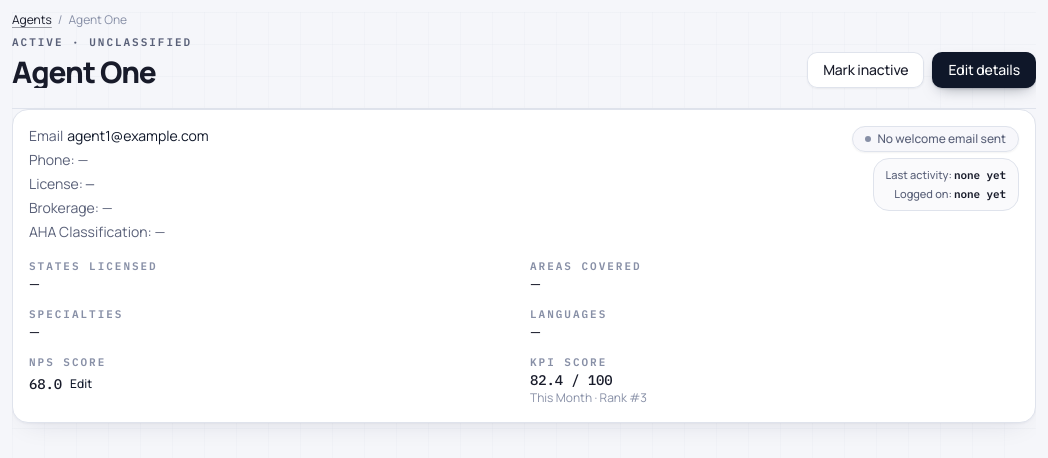
Test: AgentOverviewCard pills › lets an admin update NPS from the overview card
Check: the text "68.0" is shown, box [29,374,62,394]
Click the button "Edit" at coordinates (81, 384), box [70,376,92,392]
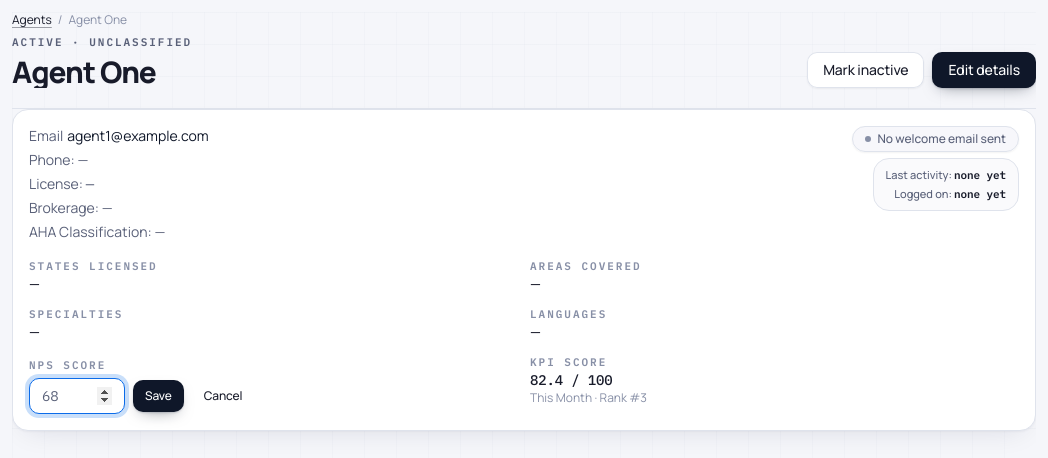
Check: the number field named "NPS Score" holds "68"
Replace the text in the number field named "NPS Score" with "72" at coordinates (77, 396), box [29,378,125,414]
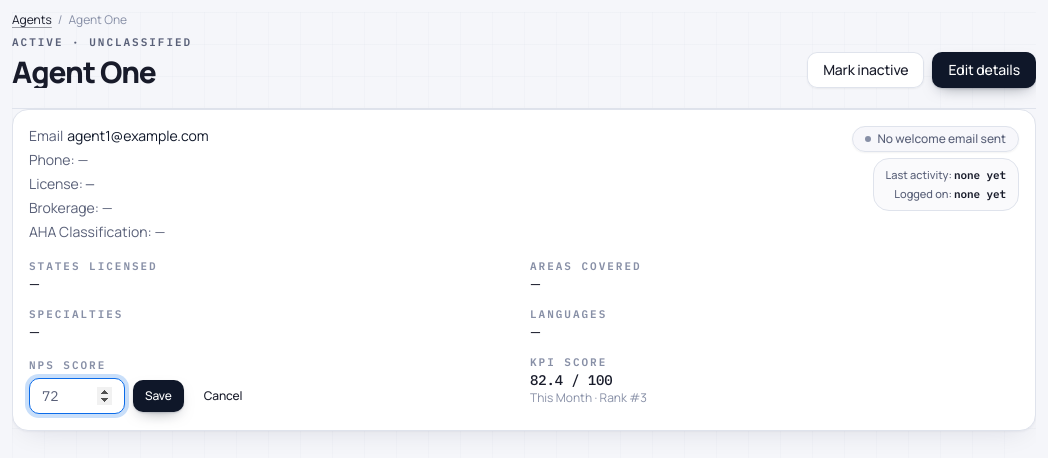
Click the button "Save" at coordinates (158, 396), box [133,380,184,412]
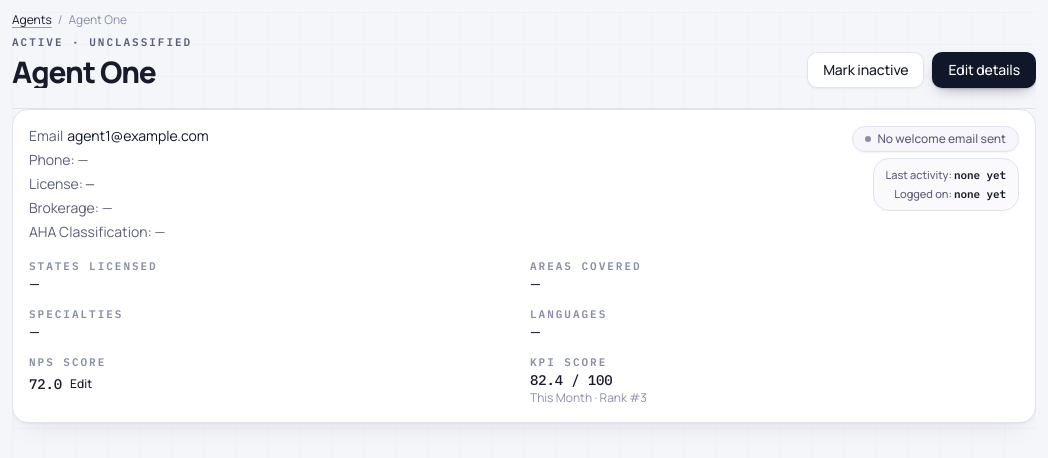
Check: the text "72.0" is shown, box [29,374,62,394]
